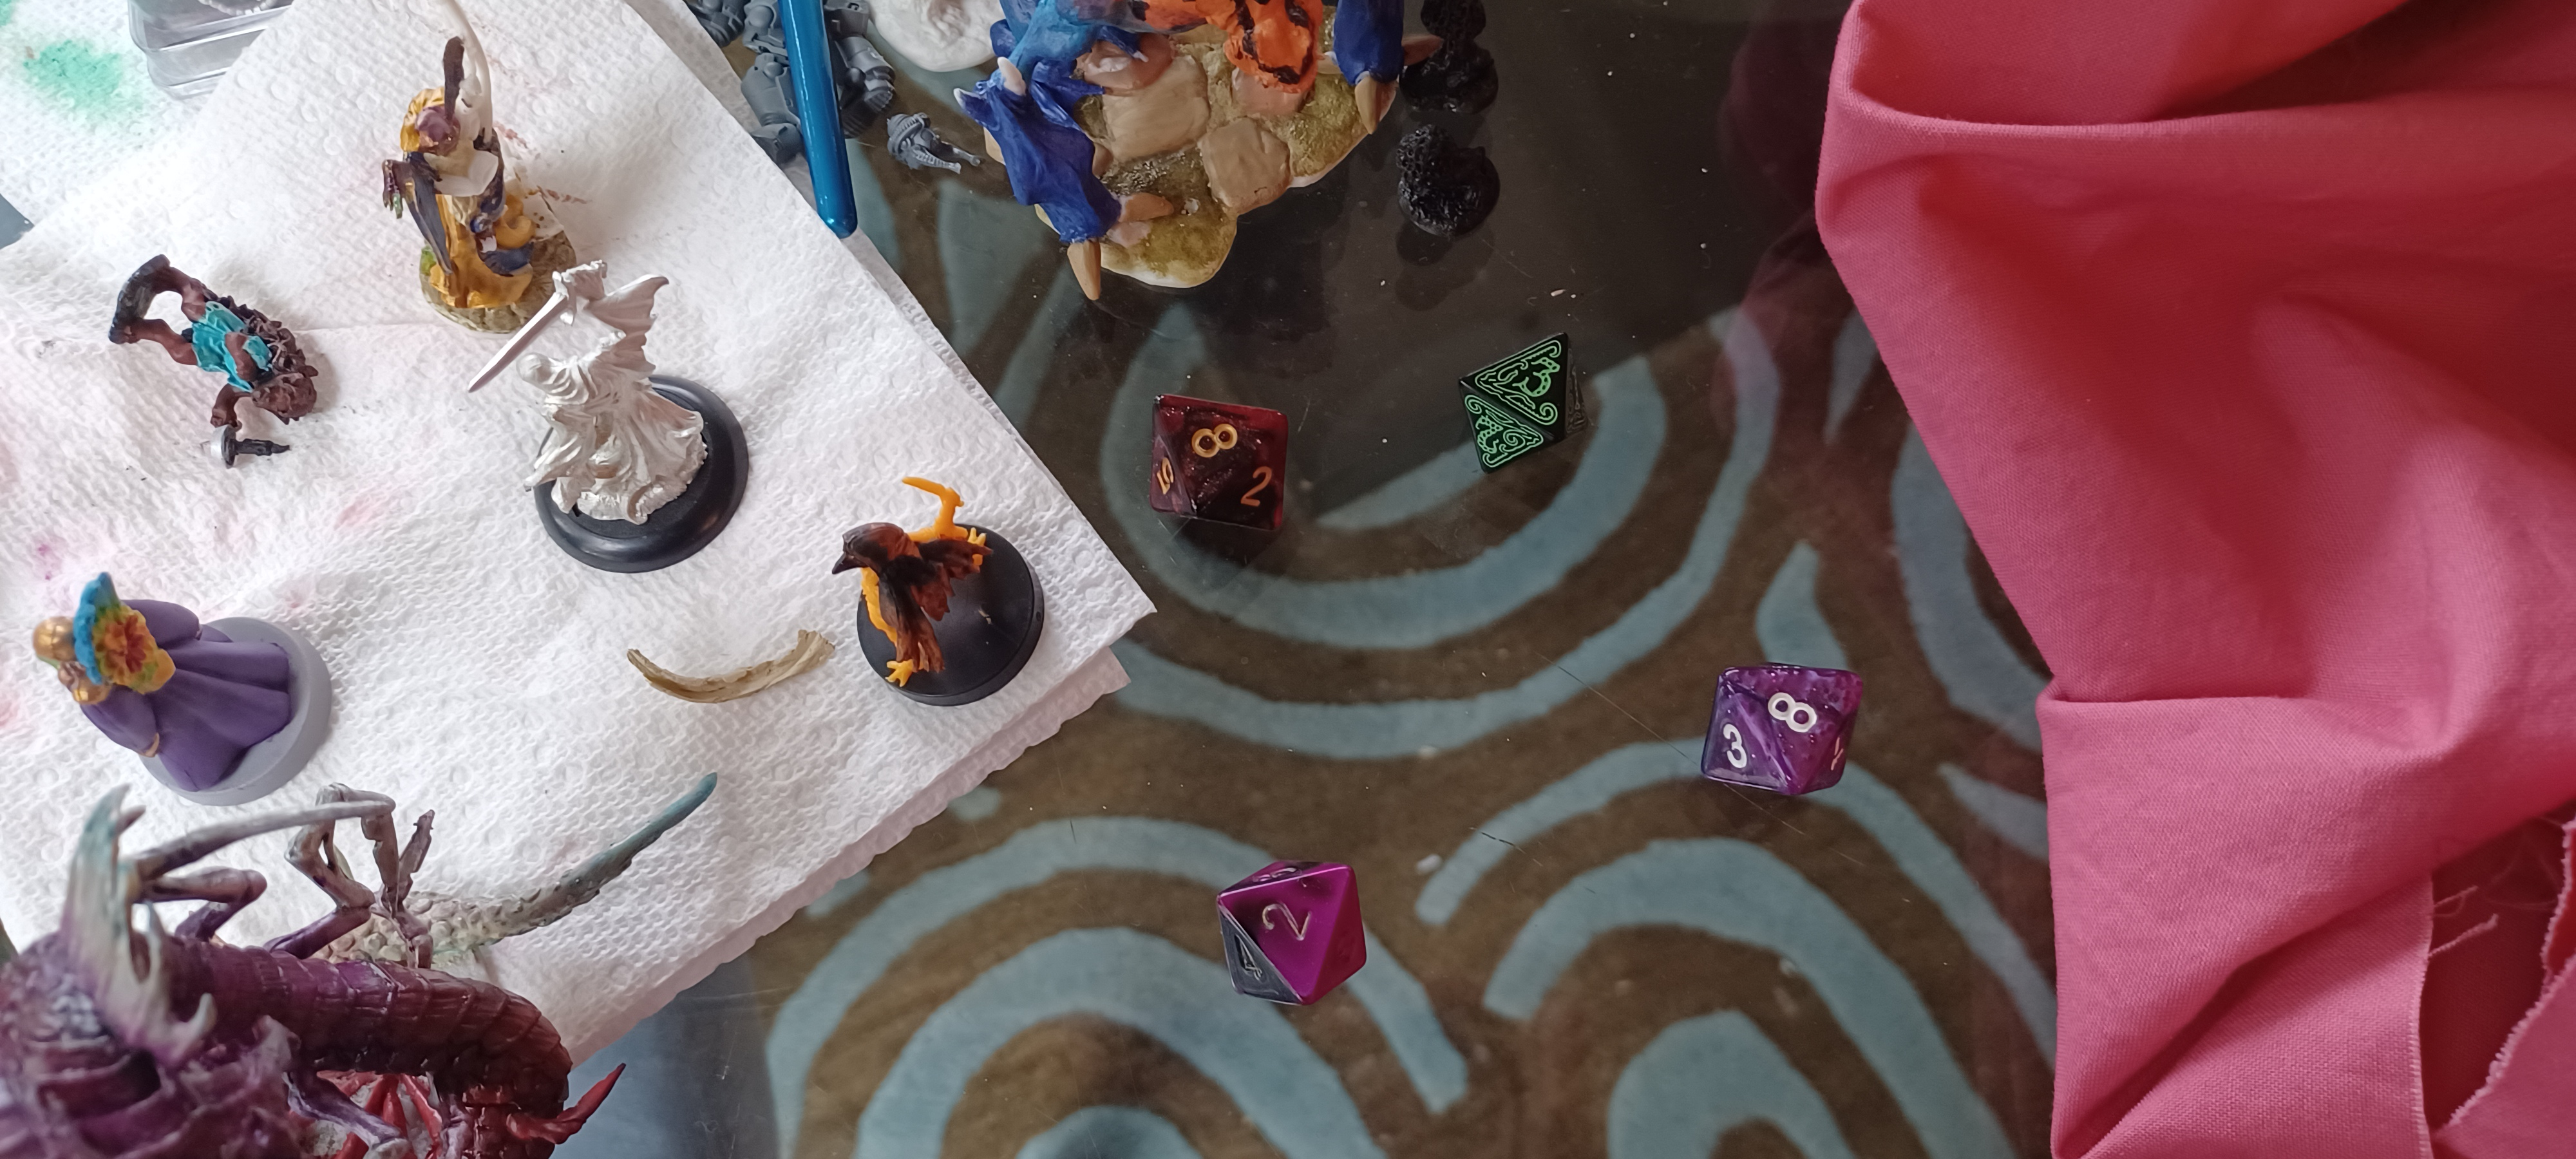eight: (1664, 632, 1902, 826), (1107, 353, 1329, 558)
three: (1441, 307, 1605, 494)
two: (1198, 831, 1391, 1041)
